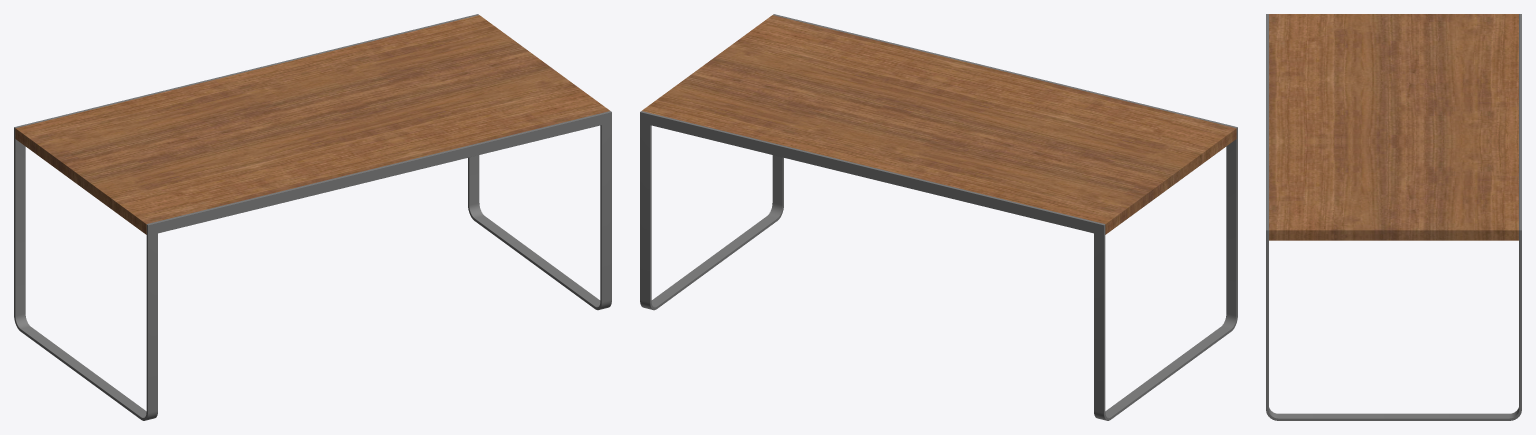
The model's file is ka_design_t2_obj.obj.
3 renders of one model, left to right at view 1: azimuth 30°, elevation 25°; view 2: azimuth 150°, elevation 25°; view 3: azimuth 270°, elevation 25°, orthographic. The views are drawn at different scales.
Parts seen in each view (by area): view 1: ka_design_t2; view 2: ka_design_t2; view 3: ka_design_t2.
Boxes of the visible parts, x1=… form: ka_design_t2: x1=14, y1=14, x2=611, y2=420; ka_design_t2: x1=640, y1=14, x2=1237, y2=420; ka_design_t2: x1=1266, y1=14, x2=1521, y2=420.
Bounding box in the file's own units: 180 × 74 × 90.
2 materials, 1 textured.
